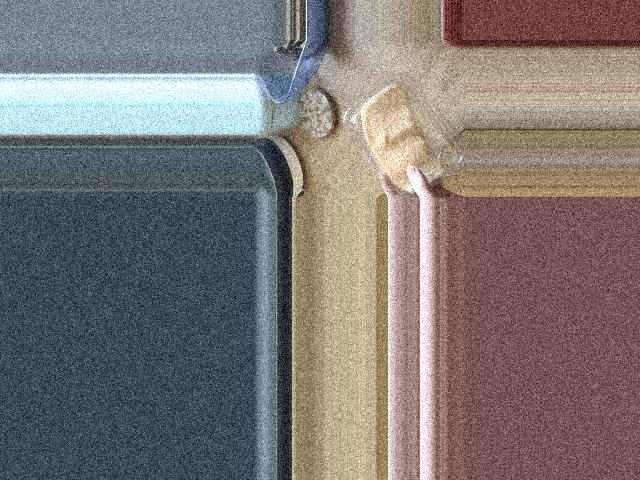cheese: (332, 59, 461, 188)
